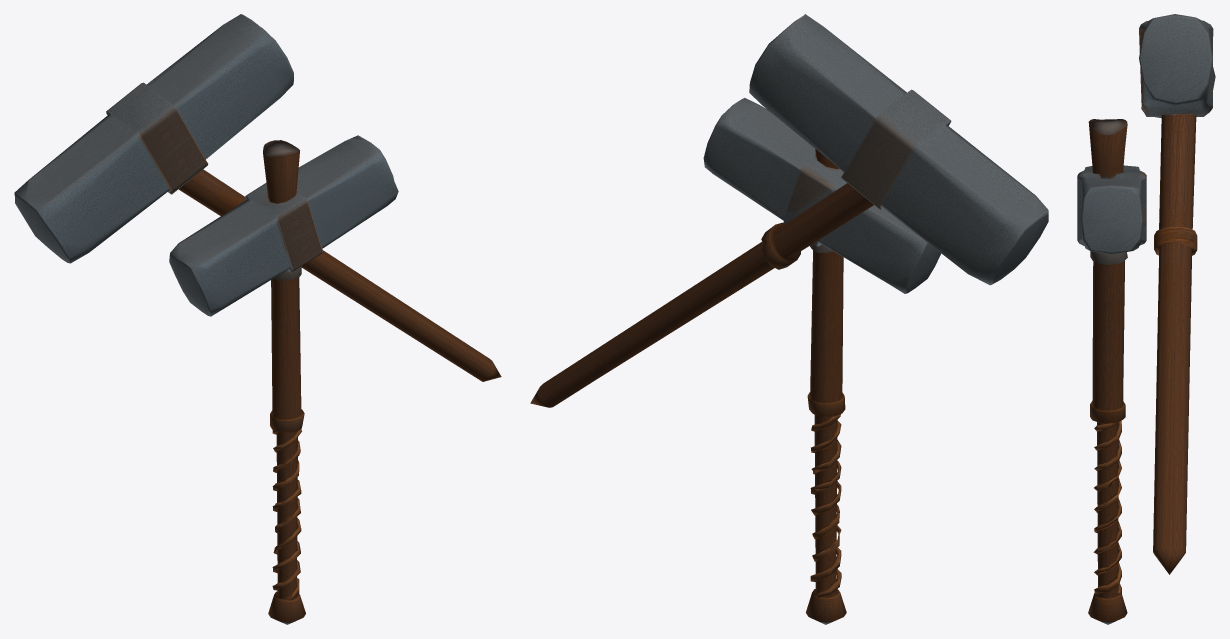
File: hammer_meshy.glb
3 renders of one model, left to right at view 1: azimuth 30°, elevation 25°; view 2: azimuth 150°, elevation 25°; view 3: azimuth 270°, elevation 25°, orthographic. The views are drawn at different scales.
Size of the model in its own units: 0.8091 by 0.9526 by 0.1963.
Materials: 1 (1 with a texture image).
